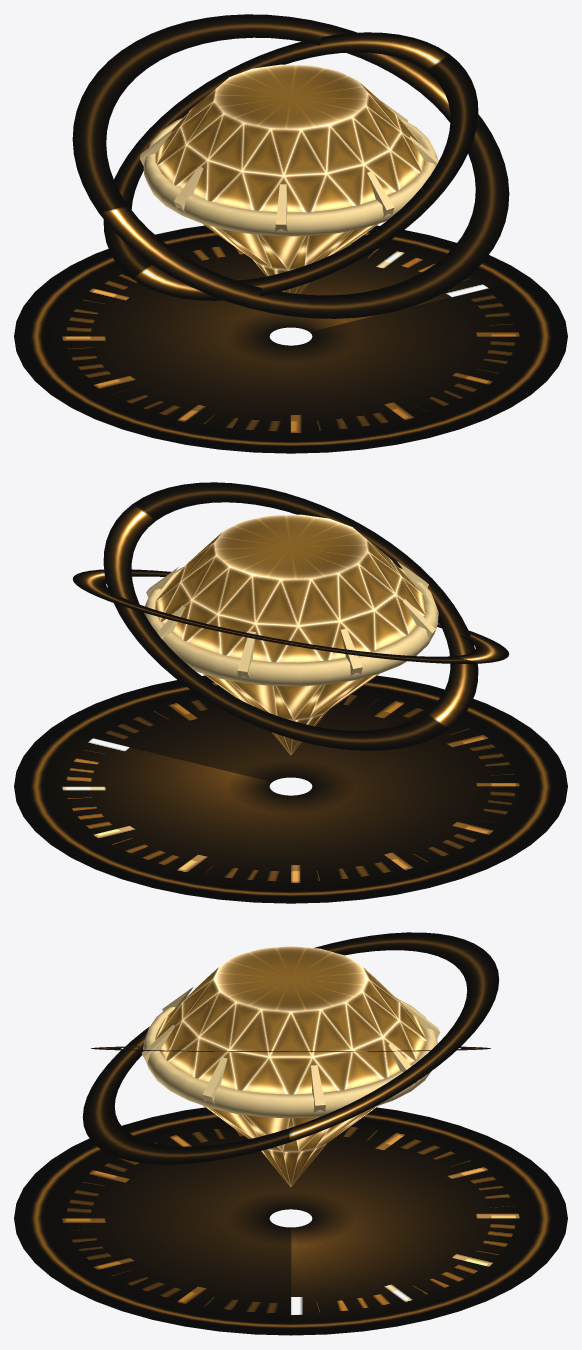
Rendered from shard_gold_v3_2x.glb.
3 views of the same model, one above another, from view 1: azimuth 30°, elevation 25°; view 2: azimuth 150°, elevation 25°; view 3: azimuth 270°, elevation 25° (orthographic).
Visible parts, largest first — view 1: gem; view 2: gem; view 3: gem.
Boxes of the visible parts, left/top/right/bottom form: gem: left=14, top=14, right=567, bottom=453; gem: left=14, top=482, right=567, bottom=903; gem: left=14, top=932, right=567, bottom=1335.
Size of the model in its own units: 5.2 by 2.52 by 5.2.
Materials: 3 (2 with a texture image).
